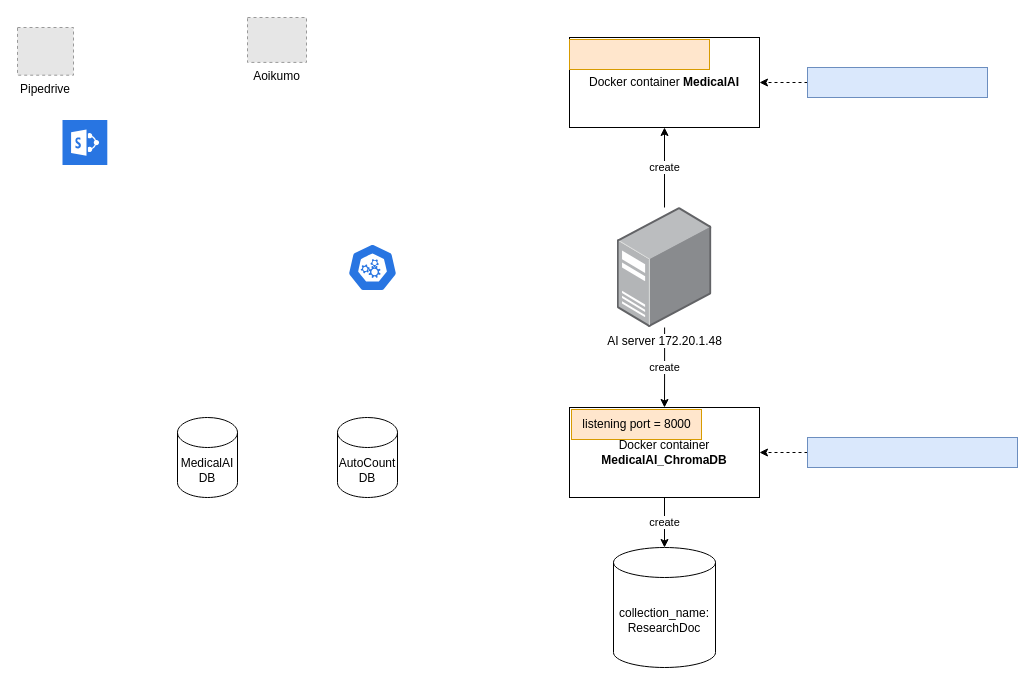
This 1035x685 diagram has some shape labels left out. Grey dashed boxes stand in for pictures. Each missing label, with the box of its shape:
Docker image = official chromaDB: (806, 436, 1018, 468)
Docker image = official ollama: (806, 66, 988, 98)
listening port = 11434: (568, 38, 710, 70)
MedicalAI Program: (346, 242, 398, 292)
Microsoft Sharepoint: (62, 120, 107, 164)
